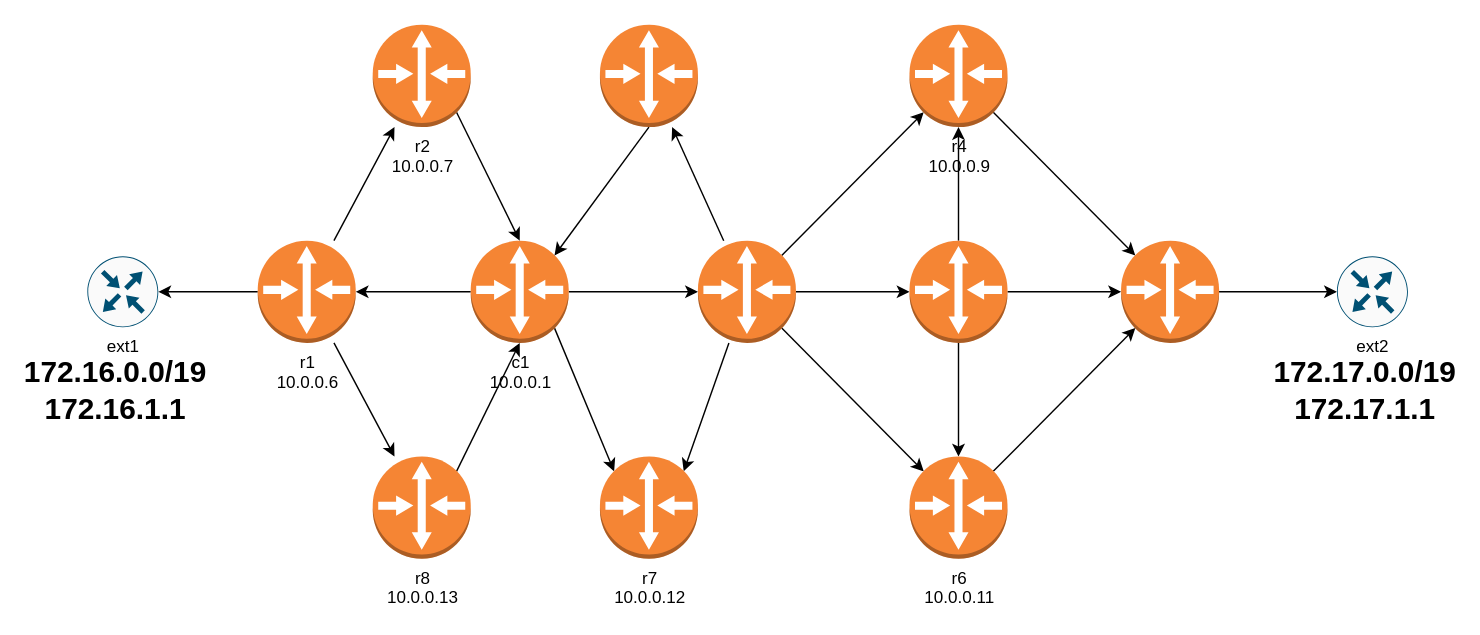
This 1480x635 diagram has some shape labels left out. Each missing label, with the box of its shape:
c2 10.0.0.2: (697, 239, 796, 343)
c3 10.0.0.3: (908, 239, 1007, 343)
r3 10.0.0.8: (599, 23, 698, 127)
r5 10.0.0.10: (1120, 239, 1219, 343)
